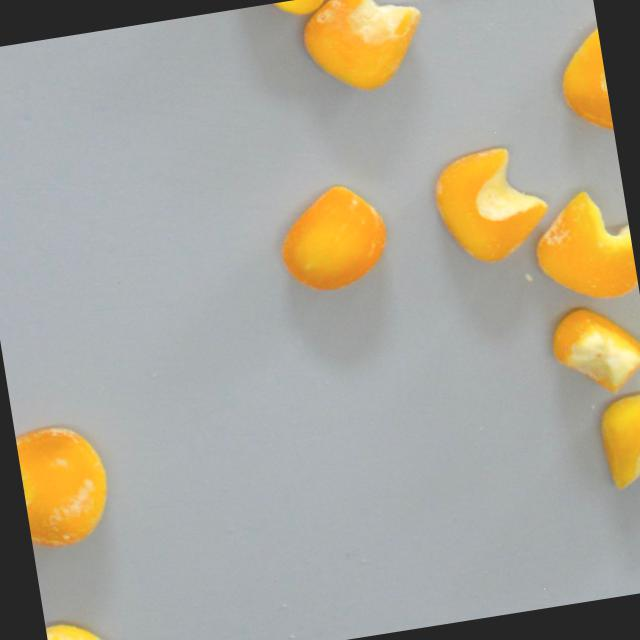dañado: (267, 175, 395, 300), (551, 23, 615, 144)
no_canjicado: (426, 139, 556, 270), (596, 394, 640, 505), (238, 0, 347, 25)
no_desgerminado: (545, 300, 640, 405)
pelicula: (524, 185, 640, 311), (14, 419, 119, 553), (296, 0, 433, 101), (44, 615, 116, 640)
